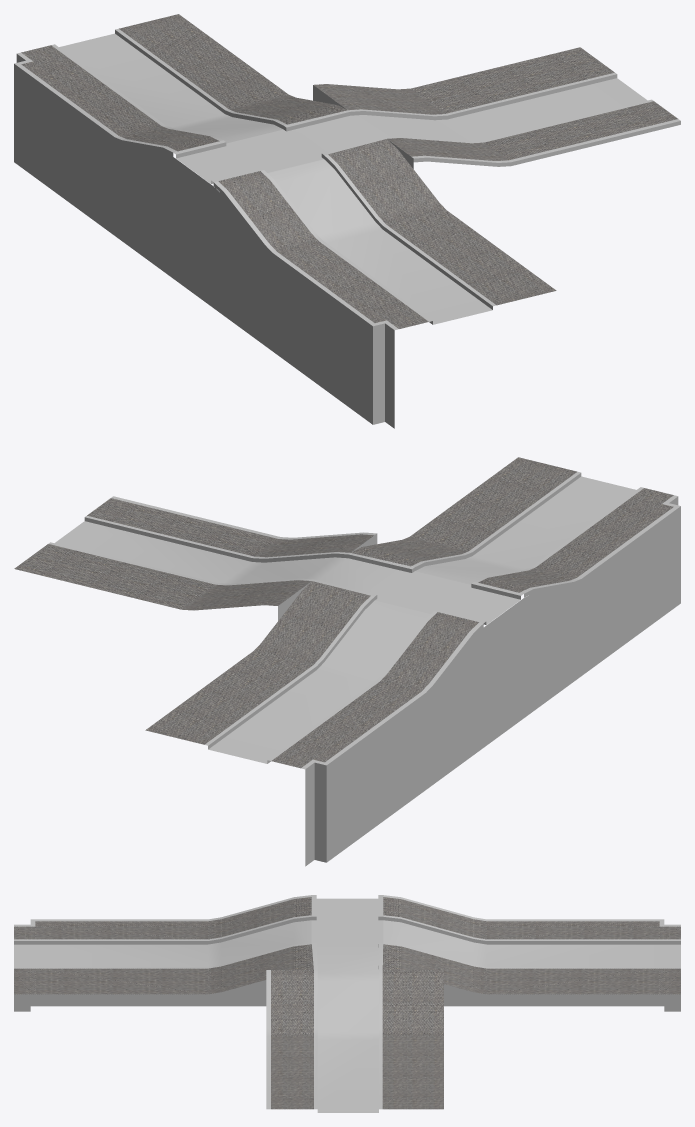
File: canale1 1.fbx
3 views of the same model, one above another, from view 1: azimuth 30°, elevation 25°; view 2: azimuth 150°, elevation 25°; view 3: azimuth 270°, elevation 25° (orthographic). The views are drawn at different scales.
Visible parts, largest first — view 1: Mesh; view 2: Mesh; view 3: Mesh.
Boxes of the visible parts, x1,y1,x2,y2 form: Mesh: (14, 14, 680, 428); Mesh: (14, 457, 680, 866); Mesh: (14, 895, 680, 1112).
Size of the model in its own units: 2940 by 802 by 4360.
